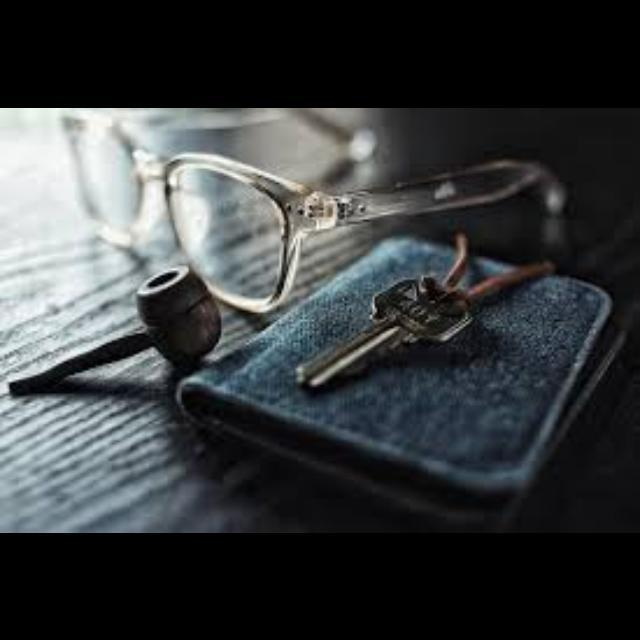Keys: (297, 277, 473, 388)
Wallet: (176, 236, 618, 530)
glasses: (63, 111, 565, 312)
